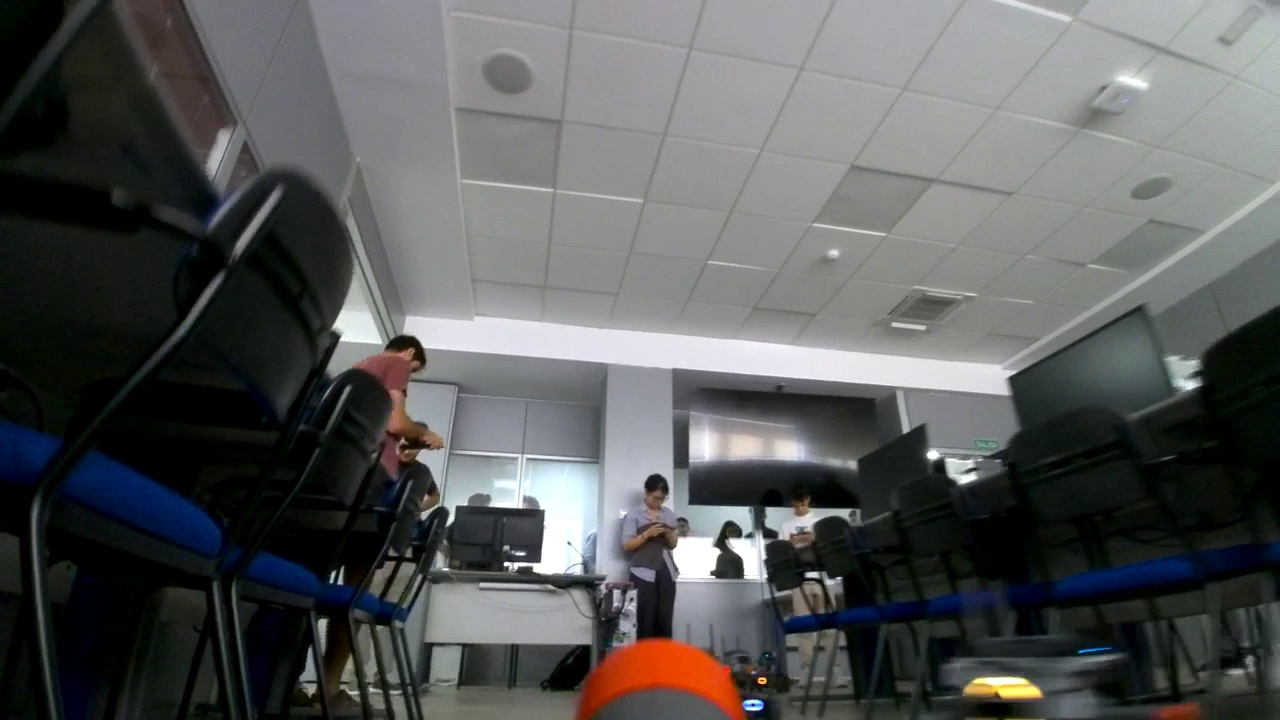robot: (718, 637, 785, 720), (754, 644, 789, 693)
